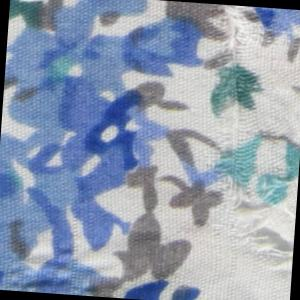Damage: (198, 5, 300, 284), (1, 225, 101, 297)
